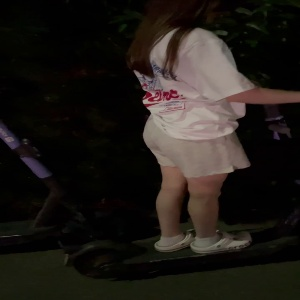human on a scooter: (55, 1, 300, 285)
